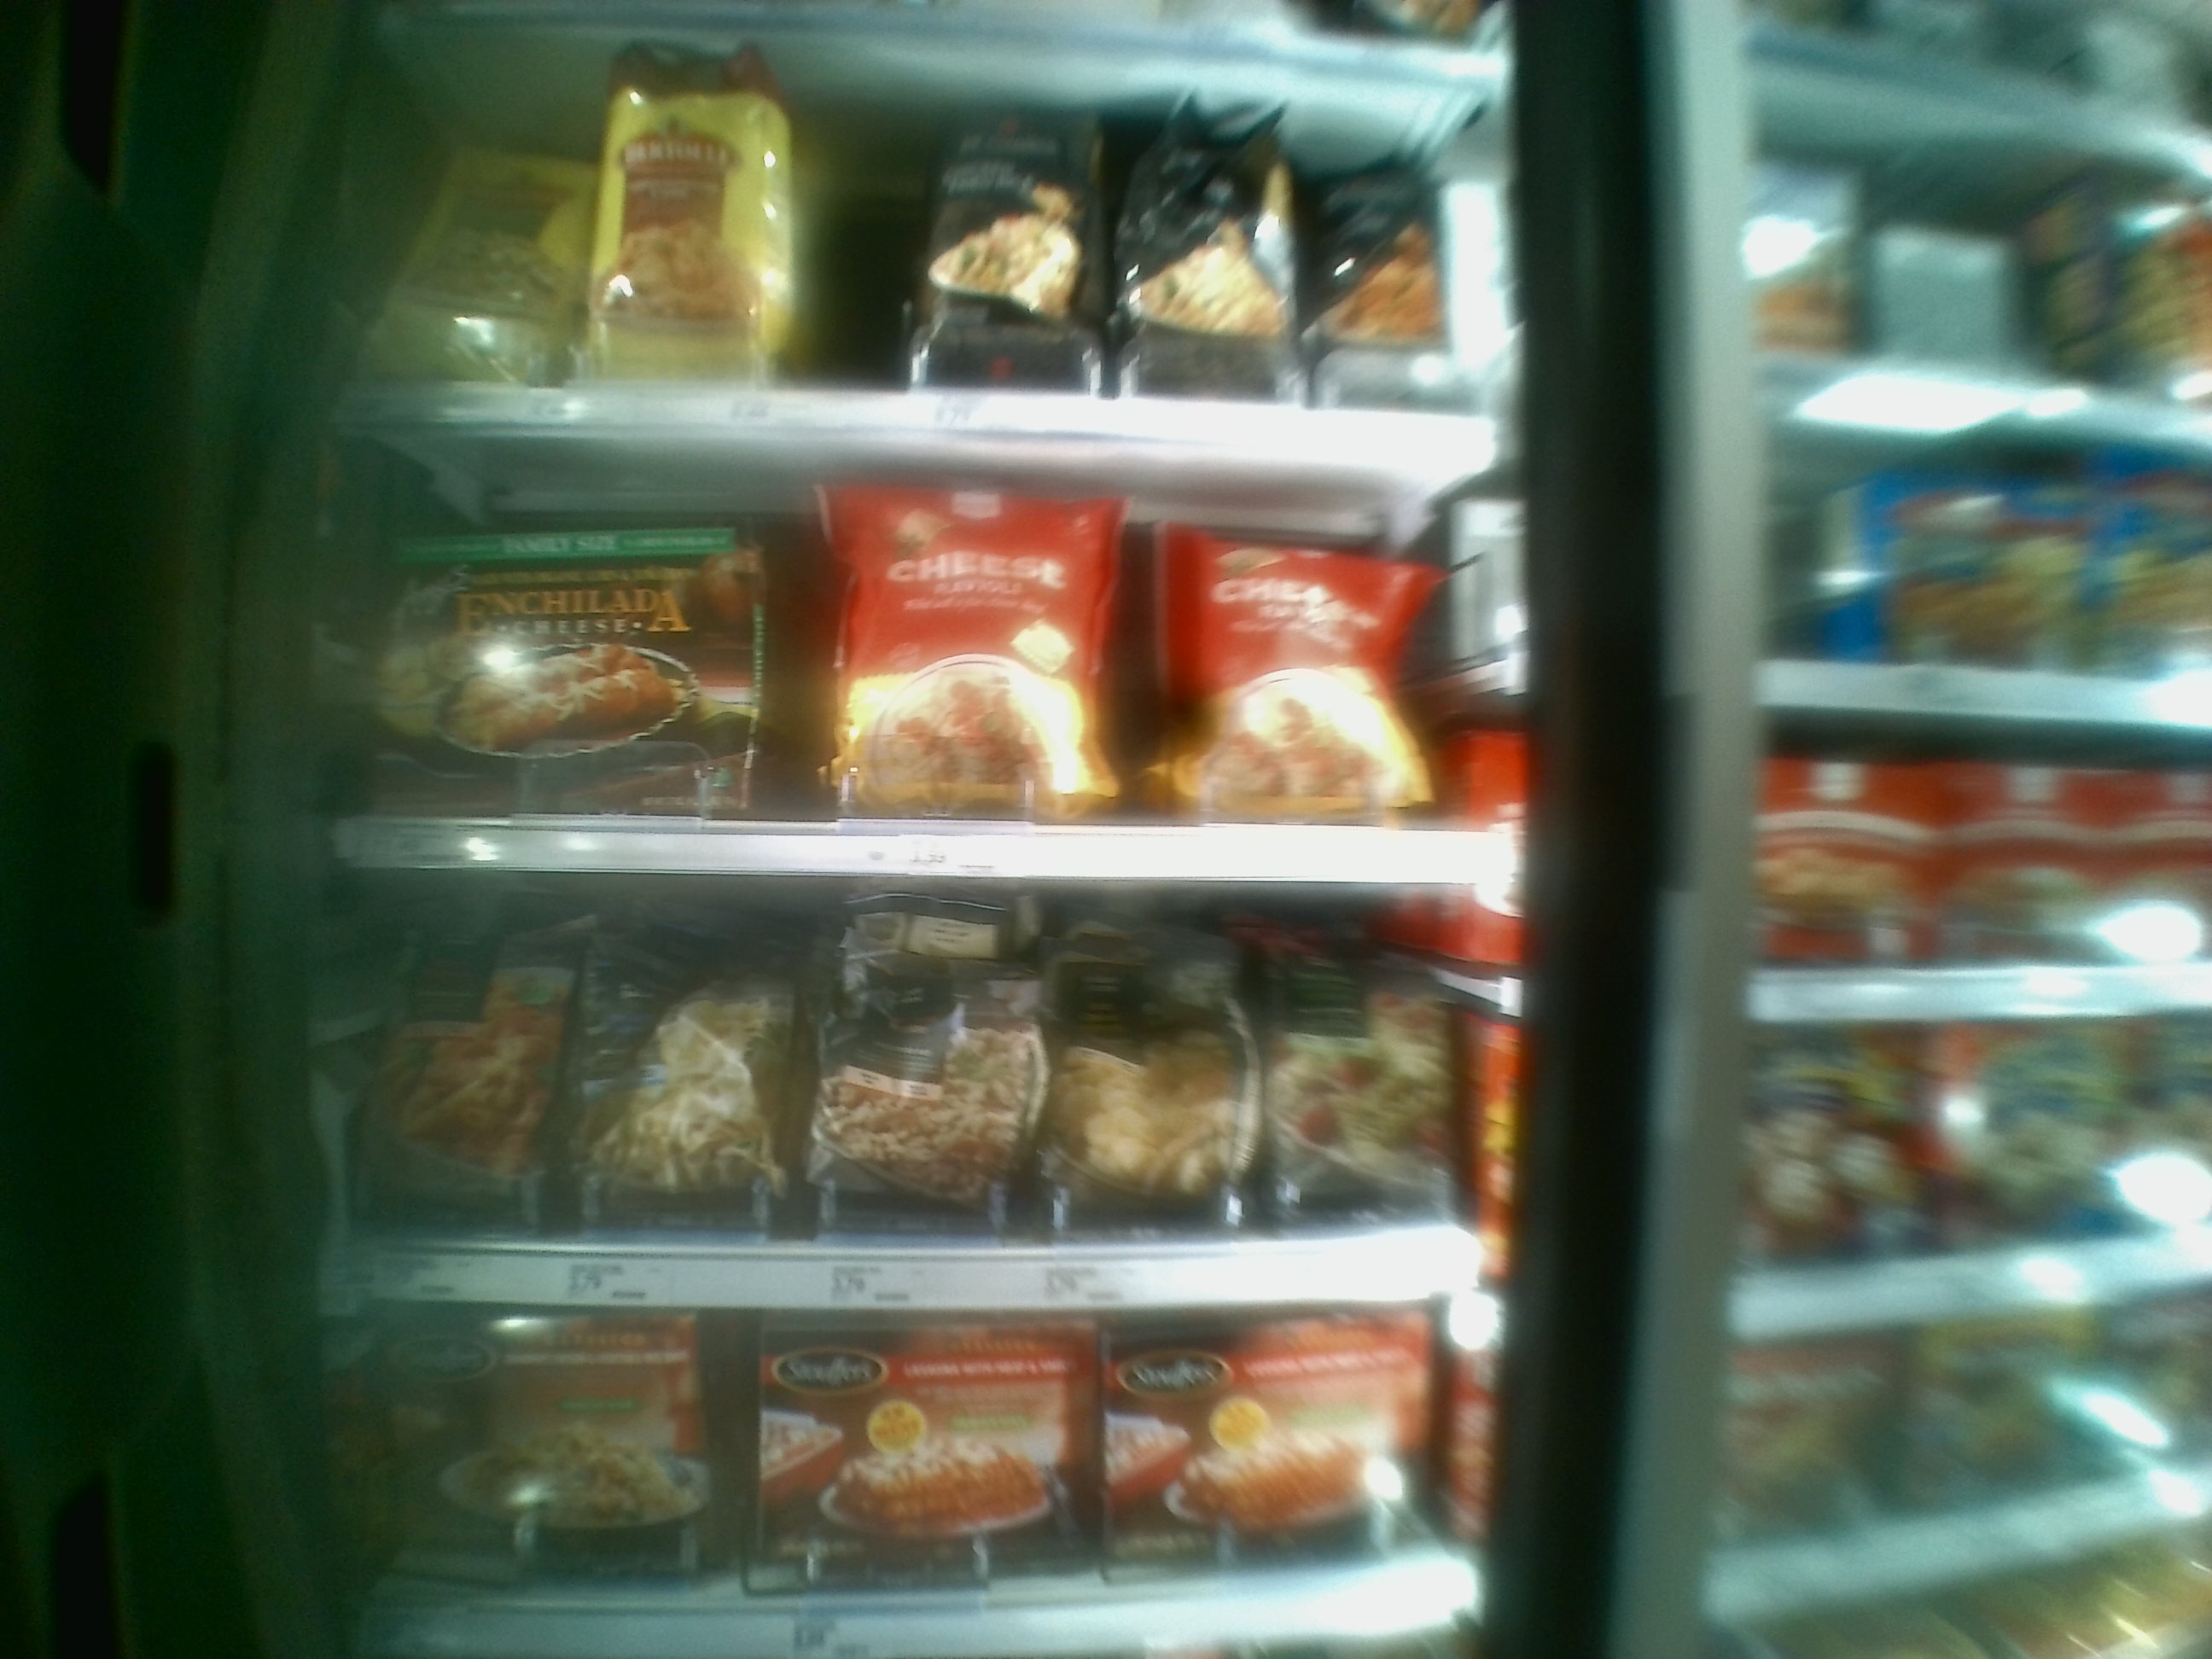shelf: (343, 403, 1496, 884), (336, 864, 1489, 1297)
